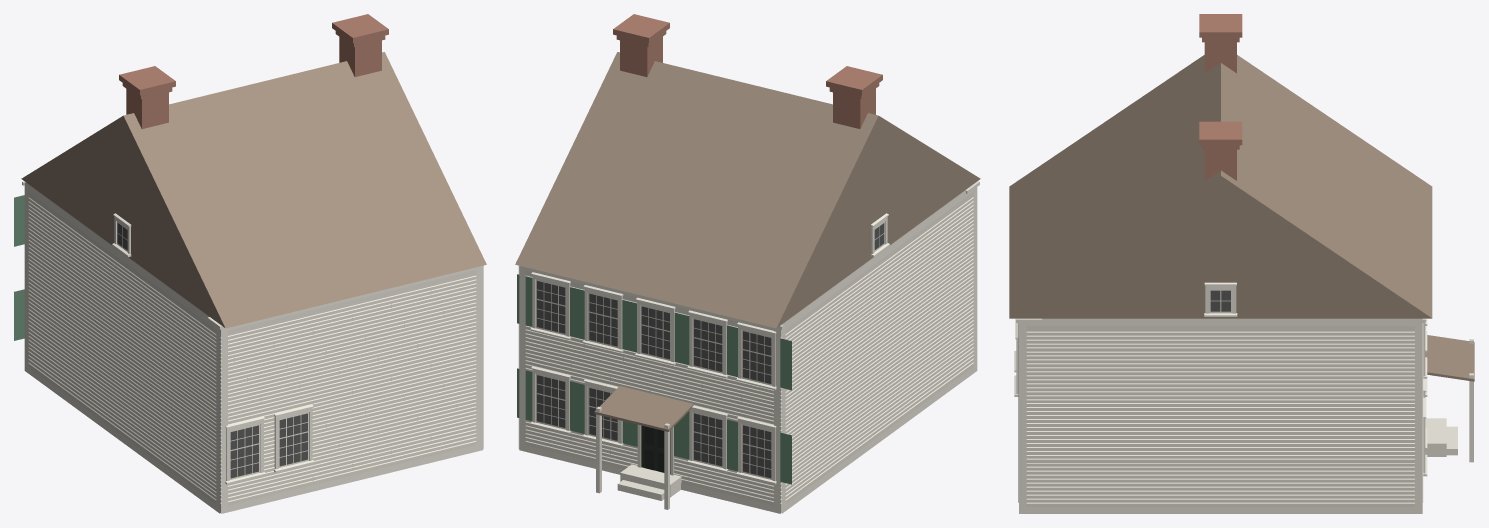
The model's file is recon_1835_blk_washington_clinton_h2_01__inferred_1835.glb.
3 views of the same model, side by side, from view 1: azimuth 30°, elevation 25°; view 2: azimuth 150°, elevation 25°; view 3: azimuth 270°, elevation 25° (orthographic). The views are drawn at different scales.
Parts seen in each view (by area): view 1: recon_1835_blk_washington_clinton_h2_01__inferred_1835; view 2: recon_1835_blk_washington_clinton_h2_01__inferred_1835; view 3: recon_1835_blk_washington_clinton_h2_01__inferred_1835.
Boxes of the visible parts, x1,y1,x2,y2 form: recon_1835_blk_washington_clinton_h2_01__inferred_1835: (14,14,486,513); recon_1835_blk_washington_clinton_h2_01__inferred_1835: (515,14,980,513); recon_1835_blk_washington_clinton_h2_01__inferred_1835: (1009,14,1474,513).
Bounding box in the file's own units: 8.57 × 10.63 × 12.1.
